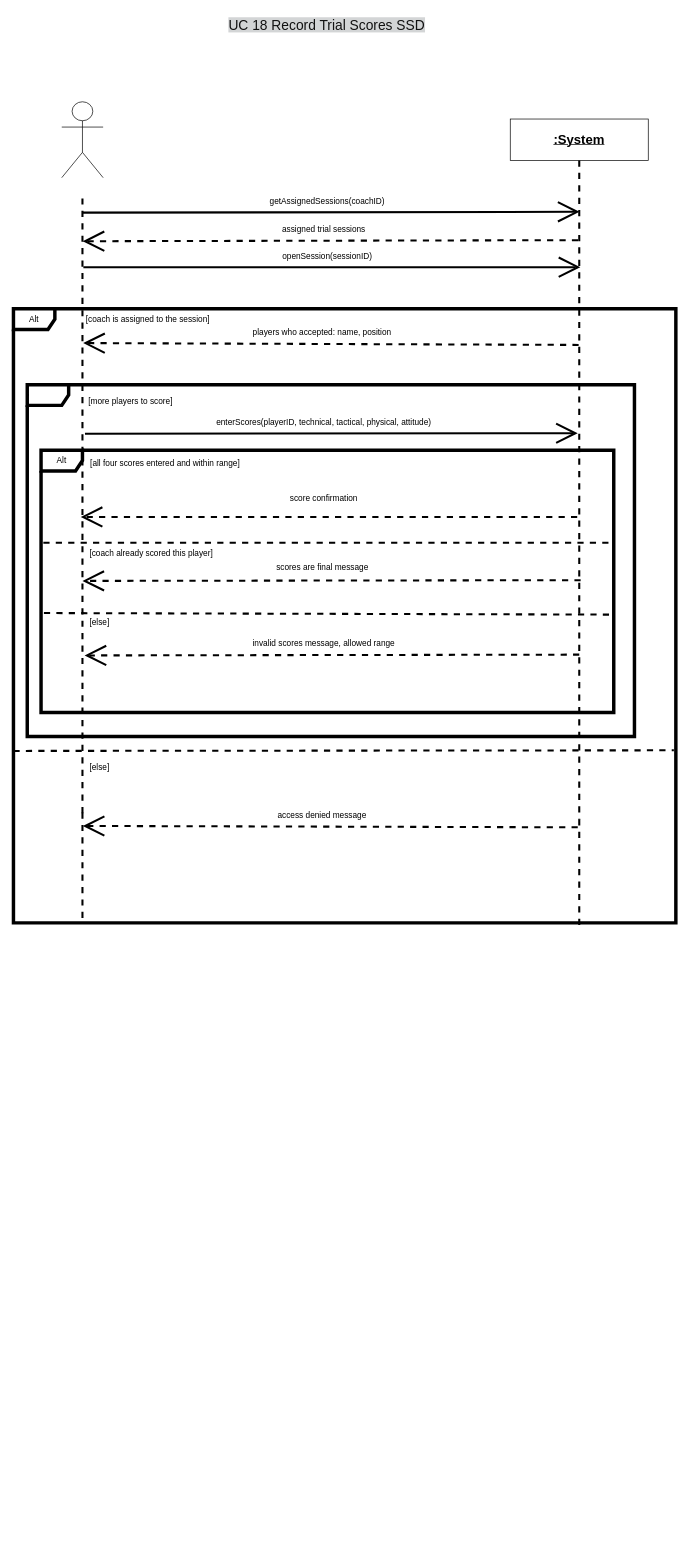
Some shapes in this 689 by 1555 pixel diagram are drawn without their labels. The box of each missing label's shape, as (x1, y1, x2, y2) in pixels:
Coach: (61, 101, 103, 178)
Loop: (25, 383, 636, 738)
